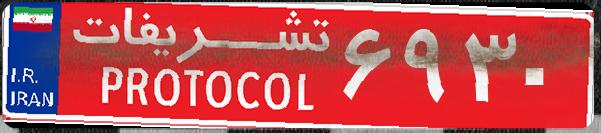0: (520, 20, 580, 115)
3: (460, 20, 520, 115)
6: (340, 20, 400, 115)
9: (400, 20, 460, 115)
تشریفات: (60, 8, 340, 125)
